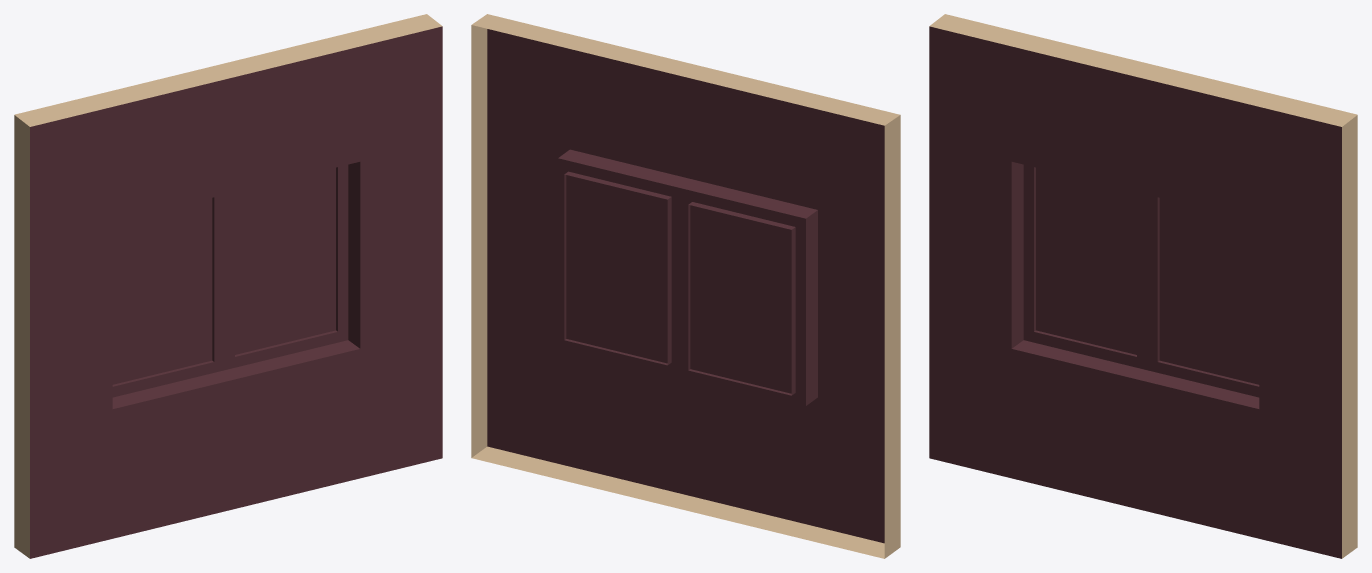
File: house-wall-window-two-3x3m.fbx
The picture shows the model from 3 angles, left to right: view 1: azimuth 30°, elevation 25°; view 2: azimuth 150°, elevation 25°; view 3: azimuth 330°, elevation 25°; orthographic projection.
Parts seen in each view (by area): view 1: house-wall-window-two-3x3m; view 2: house-wall-window-two-3x3m; view 3: house-wall-window-two-3x3m.
Part boxes in pixels (<box>): house-wall-window-two-3x3m: <box>14,14,442,558</box>; house-wall-window-two-3x3m: <box>471,14,900,558</box>; house-wall-window-two-3x3m: <box>929,14,1357,558</box>.
Bounding box in the file's own units: 3 × 3.01 × 0.2.
